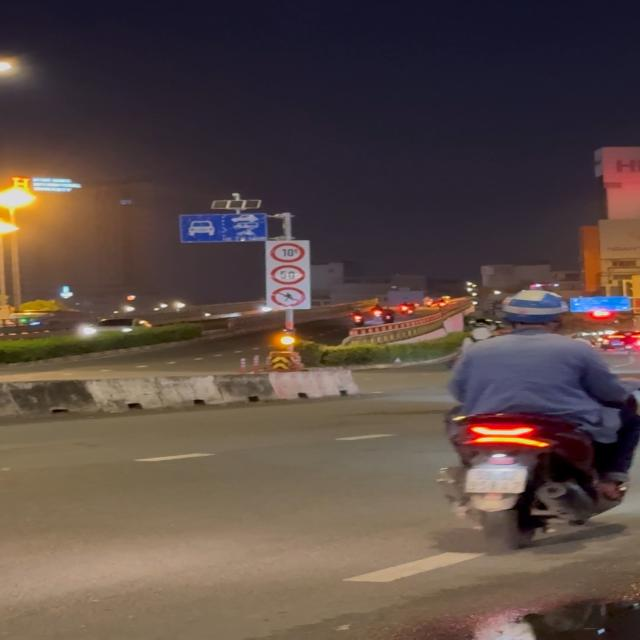Bien bao cam nguoi di bo: (270, 286, 306, 306)
Bien bao toc do toi da cho phep: (270, 264, 308, 286)
